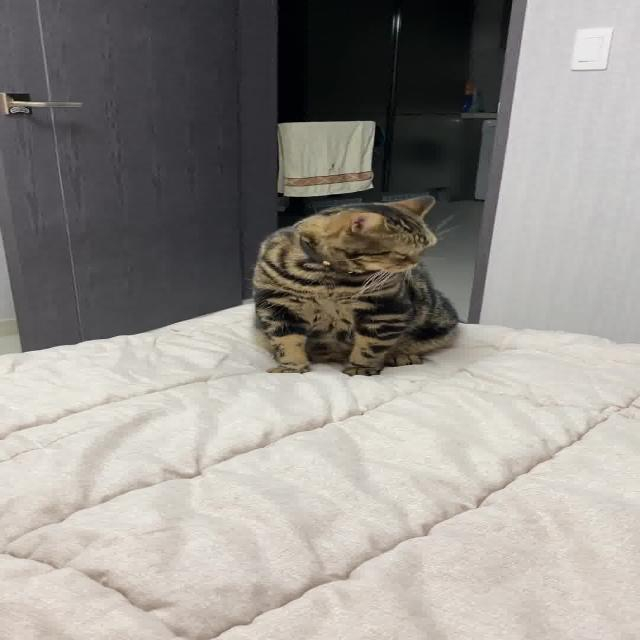cat: (200, 186, 489, 382)
